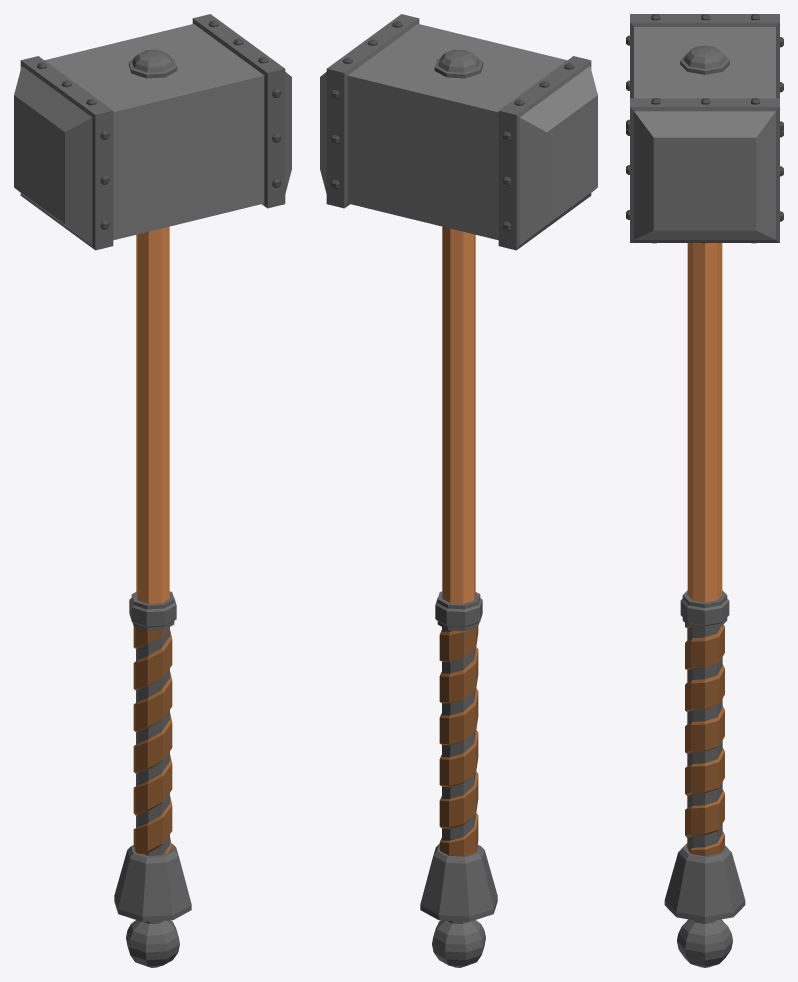
File: Hammer.fbx
3 views of the same model, side by side, from view 1: azimuth 30°, elevation 25°; view 2: azimuth 150°, elevation 25°; view 3: azimuth 270°, elevation 25° (orthographic).
Parts seen in each view (by area): view 1: Hammer; view 2: Hammer; view 3: Hammer.
Boxes of the visible parts, x1,y1,x2,y2 form: Hammer: (14,14,291,967); Hammer: (320,14,597,967); Hammer: (626,14,783,967).
Size of the model in its own units: 84.38 by 324 by 50.63.
